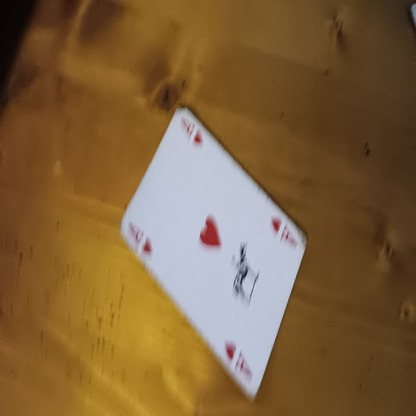Ah: (224, 339, 256, 378), (271, 215, 301, 247), (127, 220, 153, 253), (176, 112, 202, 144)
